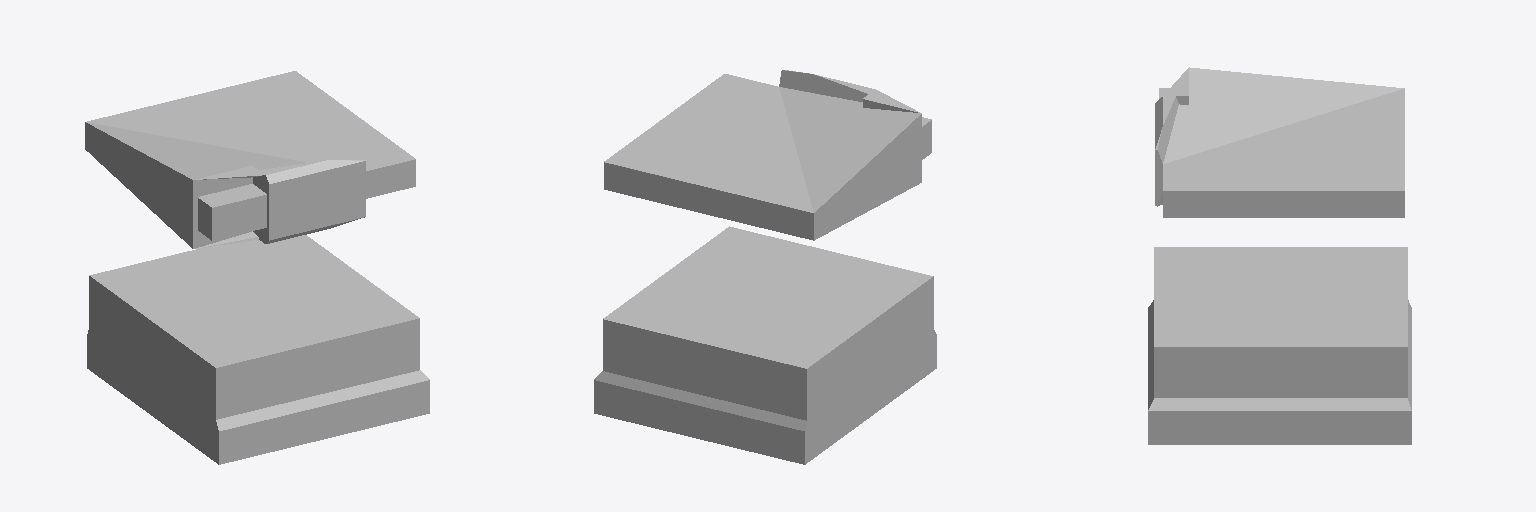
Rendered from leg1.obj.
The picture shows the model from 3 angles: view 1: azimuth 30°, elevation 25°; view 2: azimuth 150°, elevation 25°; view 3: azimuth 270°, elevation 25°; orthographic projection.
Bounding box in the file's own units: 0.2331 × 0.2788 × 0.2456.